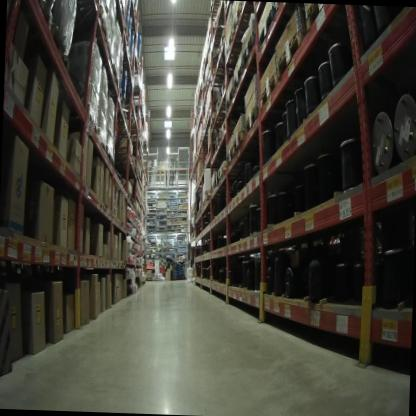pallet: (275, 30, 328, 93), (66, 1, 112, 42), (57, 99, 100, 136), (111, 145, 136, 200), (231, 7, 266, 45), (258, 7, 286, 48), (225, 35, 254, 71), (300, 5, 328, 32), (240, 36, 259, 75), (206, 113, 238, 136), (217, 159, 250, 181), (233, 64, 252, 93), (225, 90, 247, 115), (108, 108, 129, 128), (105, 91, 128, 109), (230, 132, 250, 152), (106, 63, 120, 91), (128, 52, 142, 78), (225, 148, 240, 171), (213, 97, 230, 117), (207, 1, 227, 18), (117, 25, 131, 49), (98, 128, 110, 156), (204, 188, 232, 200), (107, 143, 118, 173), (219, 120, 233, 140), (128, 86, 145, 100), (219, 79, 229, 102), (202, 123, 213, 142), (213, 132, 220, 154), (205, 144, 212, 163), (200, 200, 210, 213), (137, 279, 147, 288), (212, 176, 217, 193), (195, 210, 202, 222), (135, 263, 144, 272), (199, 134, 203, 149), (188, 234, 193, 243), (192, 202, 197, 210), (193, 232, 196, 240)
